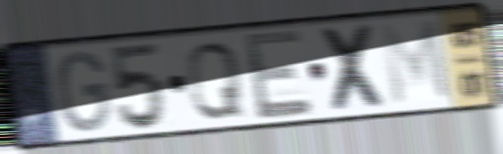5: (105, 40, 171, 132)
E: (241, 26, 316, 124)
G: (55, 49, 113, 135)
M: (377, 17, 455, 109)
Q: (184, 38, 246, 122)
X: (316, 22, 394, 115)
